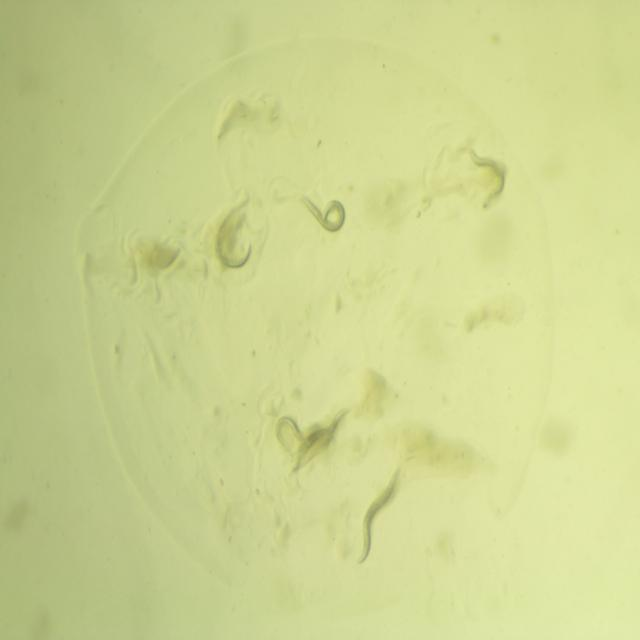worm: (352, 453, 411, 579), (284, 396, 356, 487), (208, 190, 268, 292), (459, 137, 519, 216), (288, 178, 356, 246), (268, 405, 337, 460)
